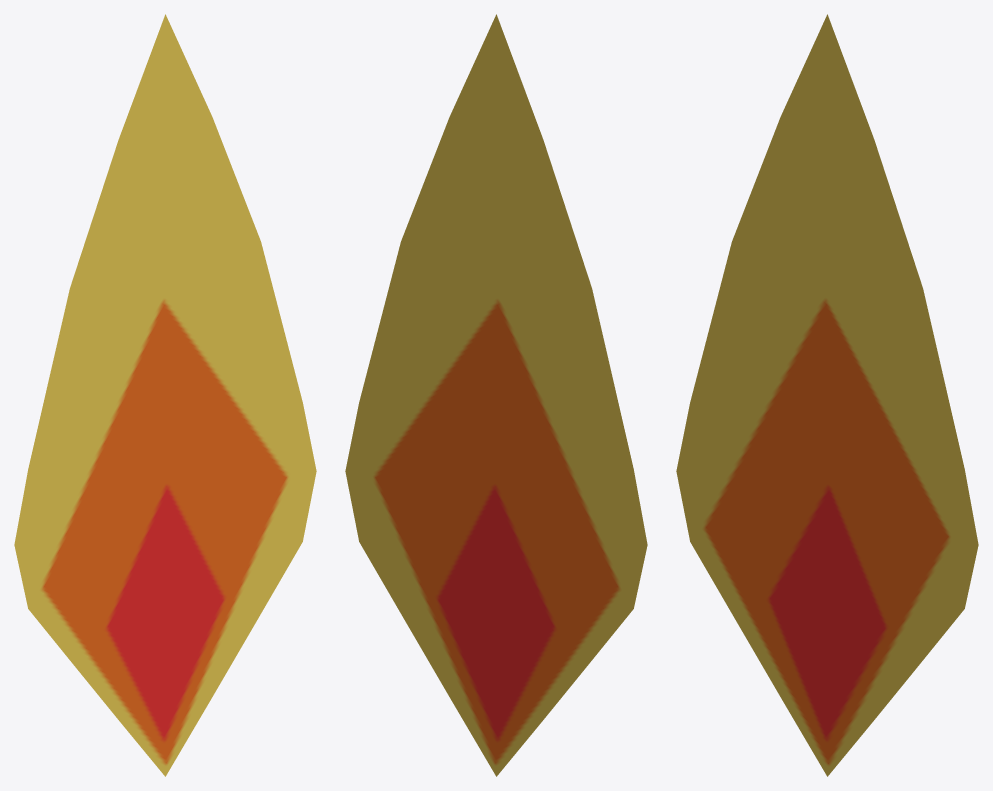
File: Fire.fbx
3 renders of one model, left to right at view 1: azimuth 30°, elevation 25°; view 2: azimuth 150°, elevation 25°; view 3: azimuth 330°, elevation 25°, orthographic.
Visible parts, largest first — view 1: polySurface4; view 2: polySurface4; view 3: polySurface4.
Part boxes in pixels (x1=…): polySurface4: x1=14, y1=14, x2=316, y2=776; polySurface4: x1=345, y1=14, x2=647, y2=776; polySurface4: x1=676, y1=14, x2=978, y2=776.
Size of the model in its own units: 0.0282 by 0.068 by 0.
